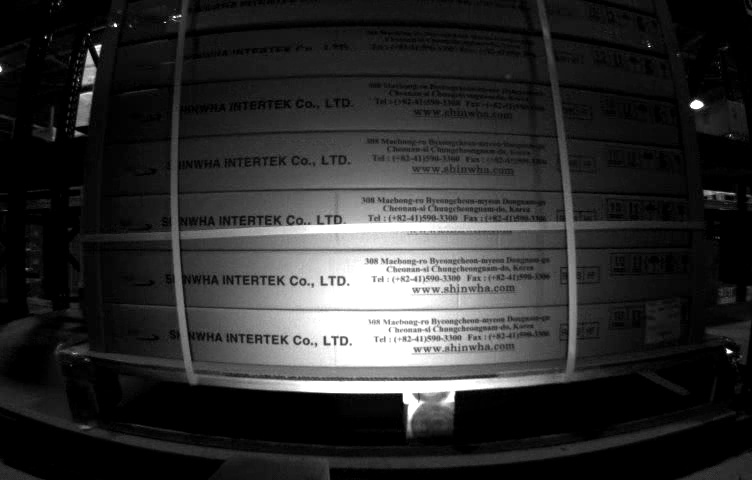True Barcode: (645, 296, 684, 344)
